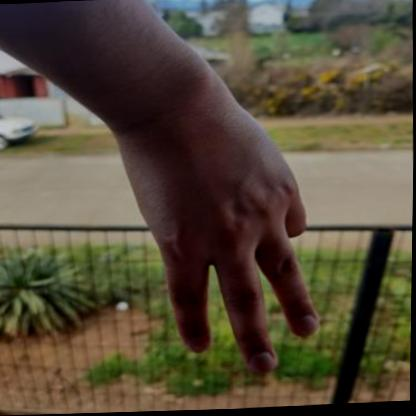M: (81, 65, 363, 384)
